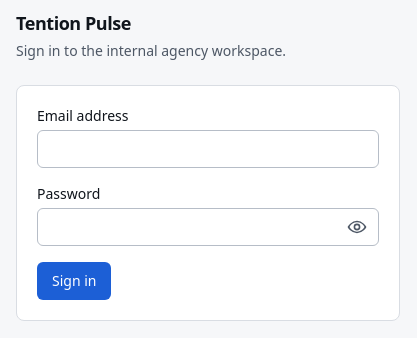
the show/hide password toggle › hides it again on a second click
The width and height of the screenshot is (417, 338).
In the password field labelled "Password": (208, 227) 37,208 -> 379,246, type "synthetic-password-value-1234"
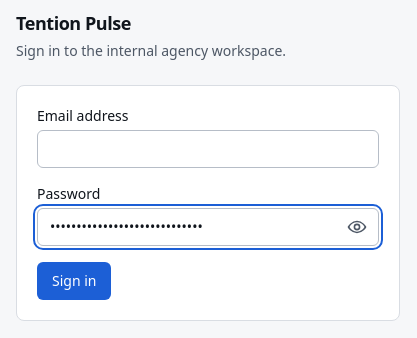
Click the button named "Show password": (357, 227) 335,208 -> 379,246
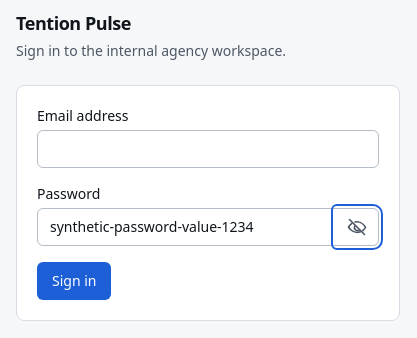
Click the button named "Hide password": (357, 227) 335,208 -> 379,246
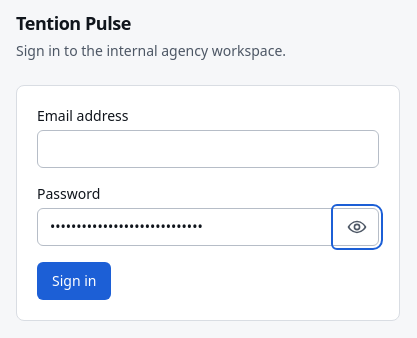
Check: the password field labelled "Password" hides its text, box 37,208 -> 379,246
Check: the button named "Show password" is shown, box 335,208 -> 379,246
